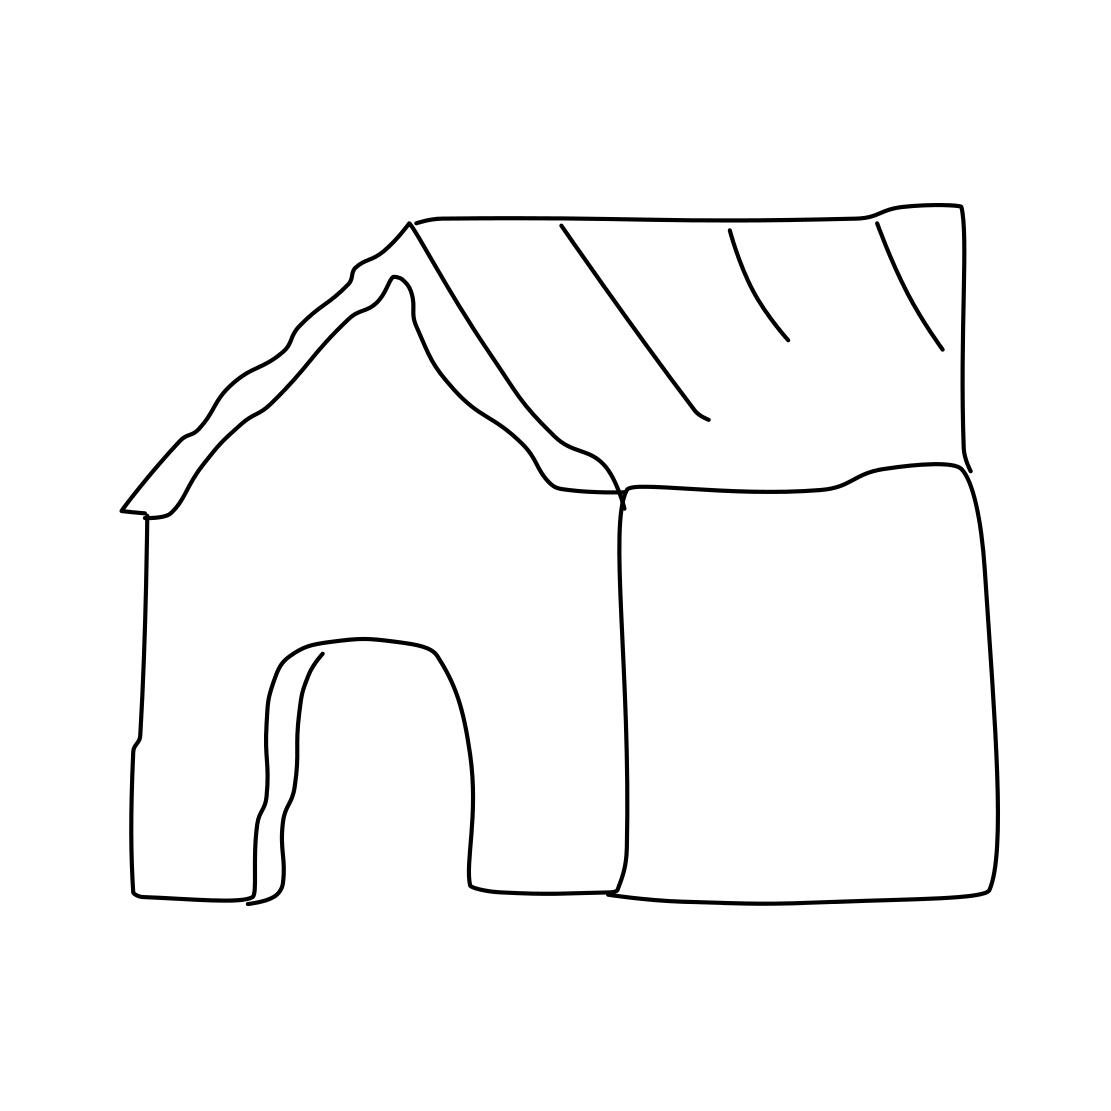House: (73, 163, 1025, 933)
